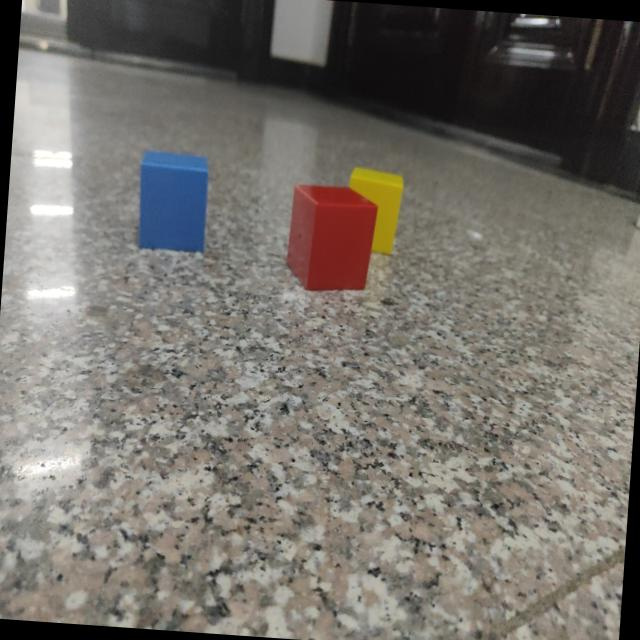blue: (136, 150, 209, 254)
red: (285, 185, 377, 293)
yellow: (348, 167, 403, 257)
